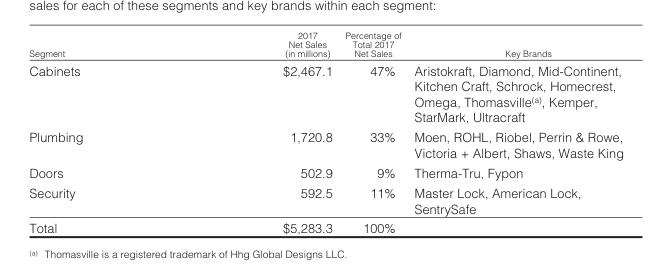table: (28, 29, 622, 235)
table column: (407, 29, 622, 235), (182, 29, 338, 235), (28, 29, 182, 235), (338, 29, 407, 235)
table column header: (28, 29, 622, 60)
table row: (28, 60, 622, 126), (28, 126, 622, 162), (28, 182, 622, 217), (28, 29, 622, 60), (28, 162, 622, 182), (28, 217, 622, 235)
